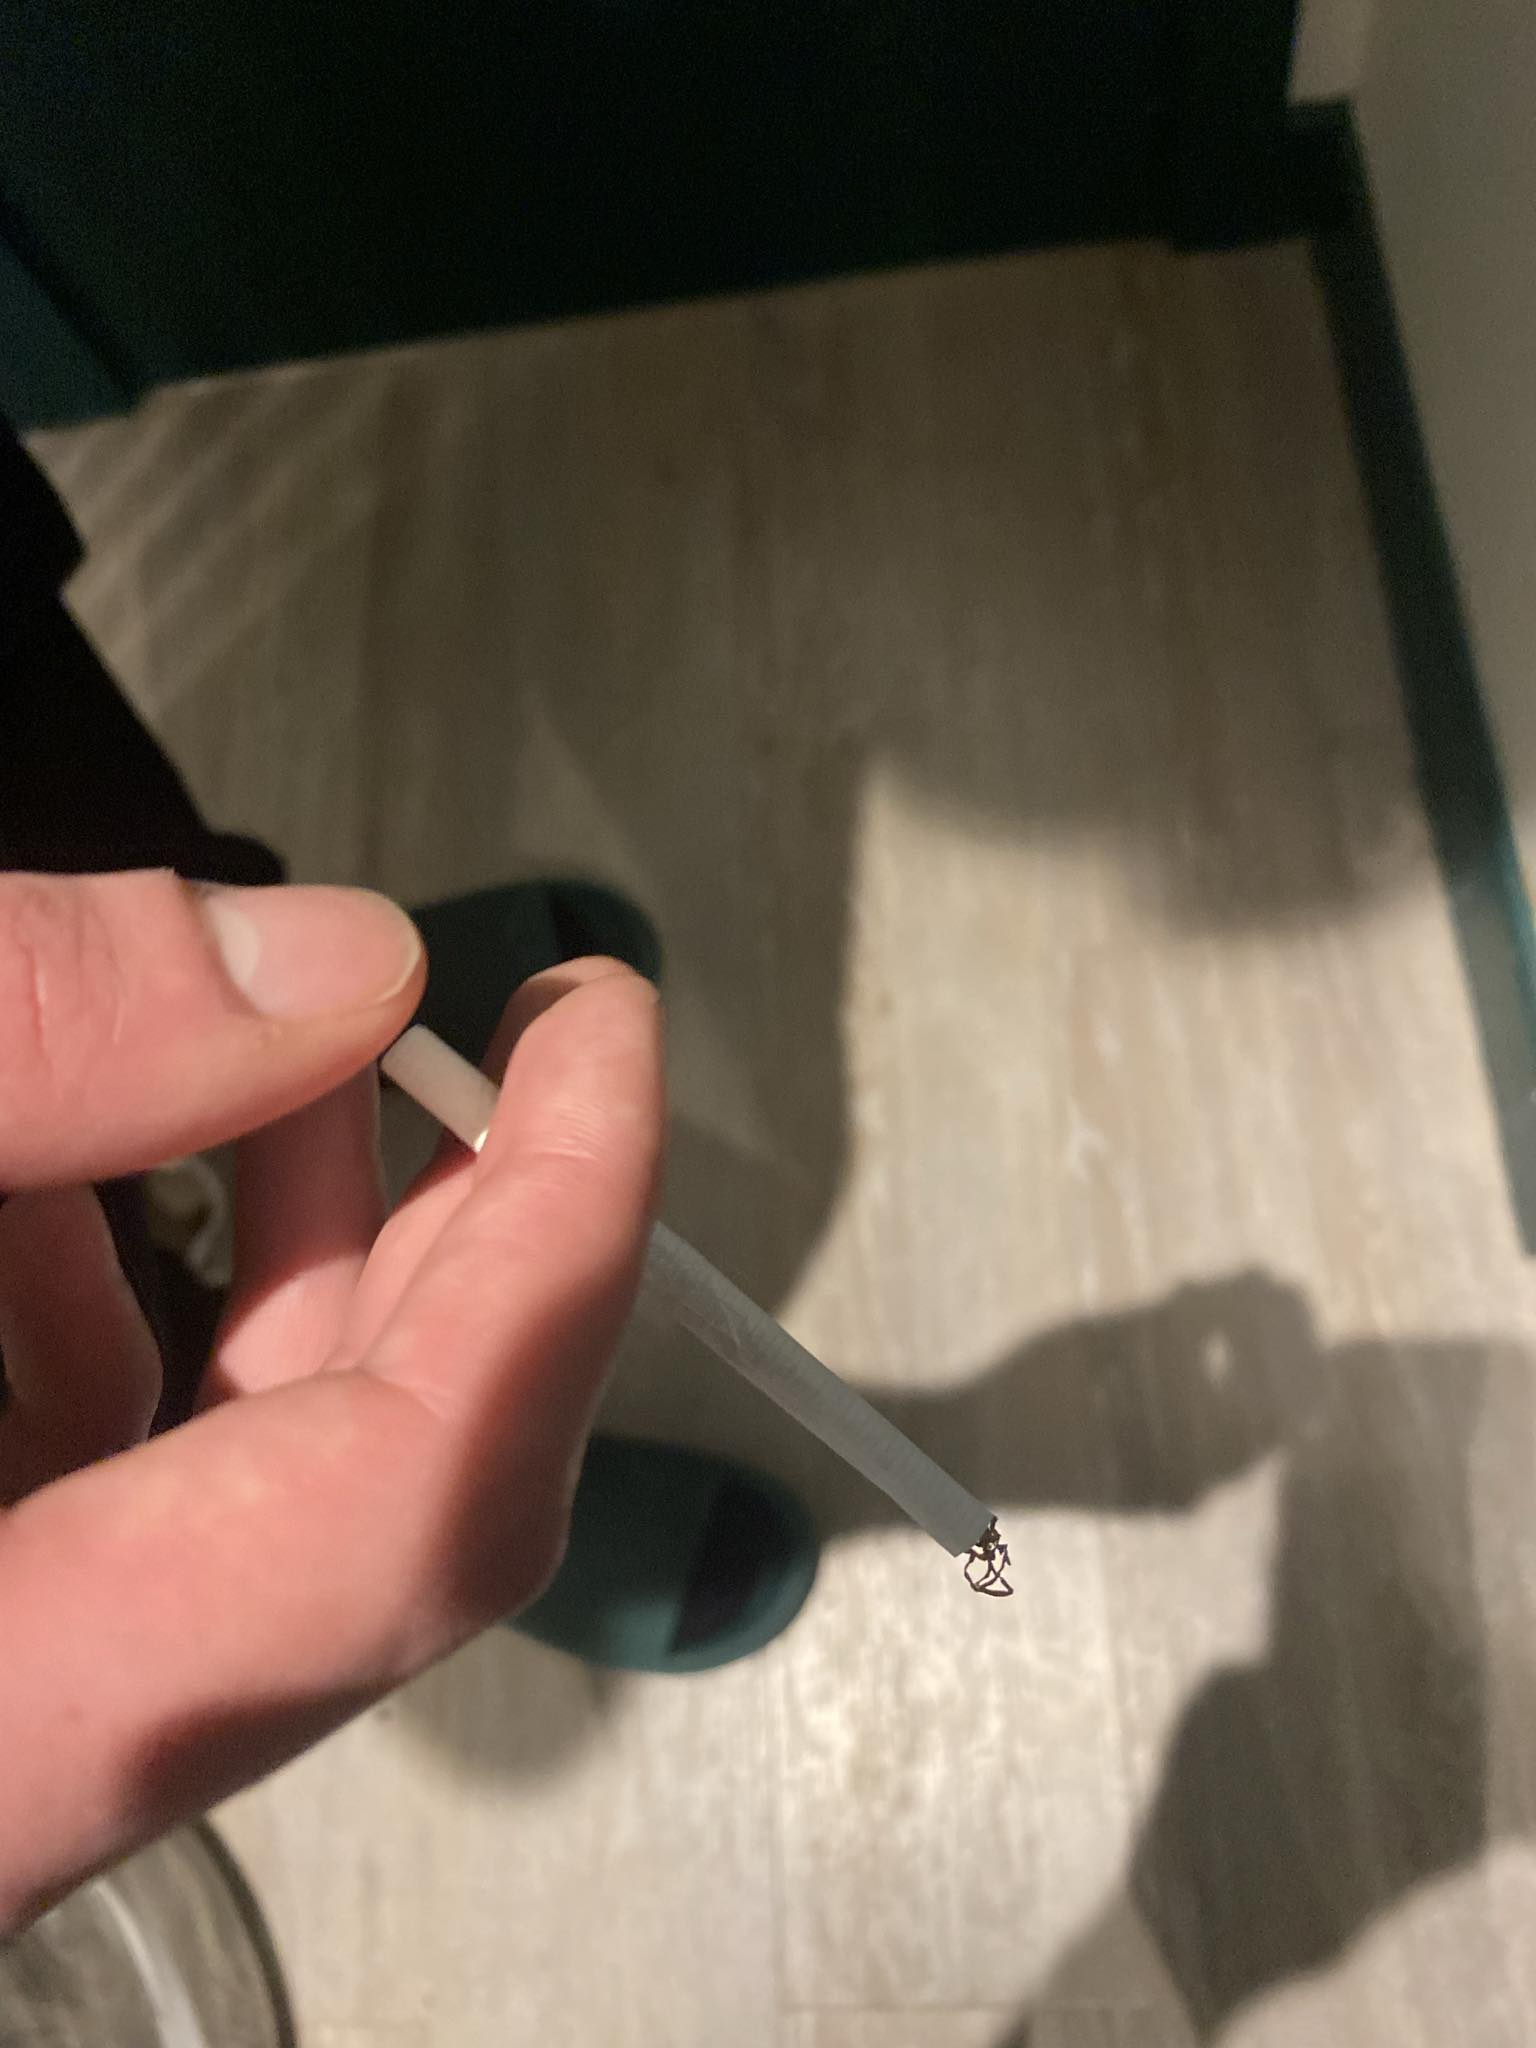Cigarette: (379, 1024, 1018, 1605)
